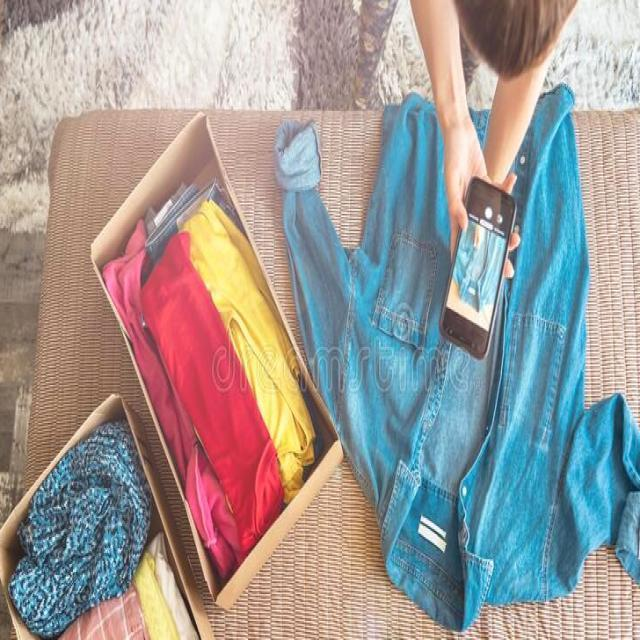clothes: (276, 106, 452, 596), (475, 95, 583, 638), (116, 220, 260, 518), (34, 477, 175, 640), (590, 391, 640, 634)
